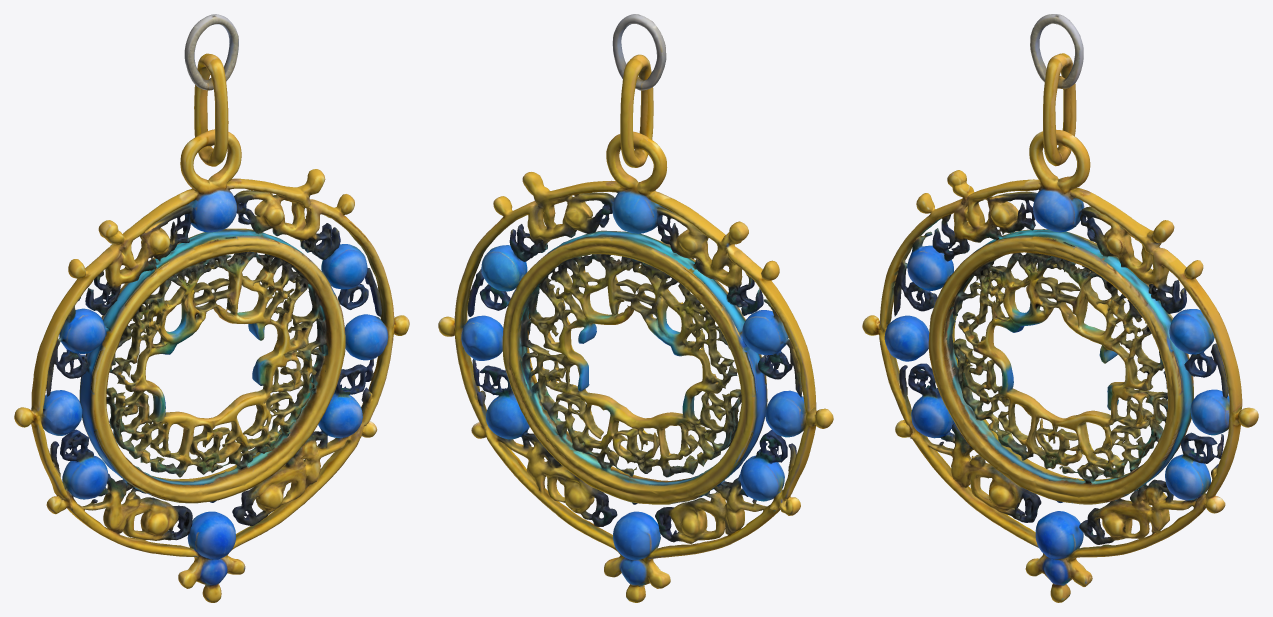
File: Meshy_AI_talisman_for_a_god_a__1115233058_texture.glb
3 renders of one model, left to right at view 1: azimuth 30°, elevation 25°; view 2: azimuth 150°, elevation 25°; view 3: azimuth 330°, elevation 25°, orthographic.
Bounding box in the file's own units: 1.4 × 2 × 0.1694.
1 material, 1 textured.
